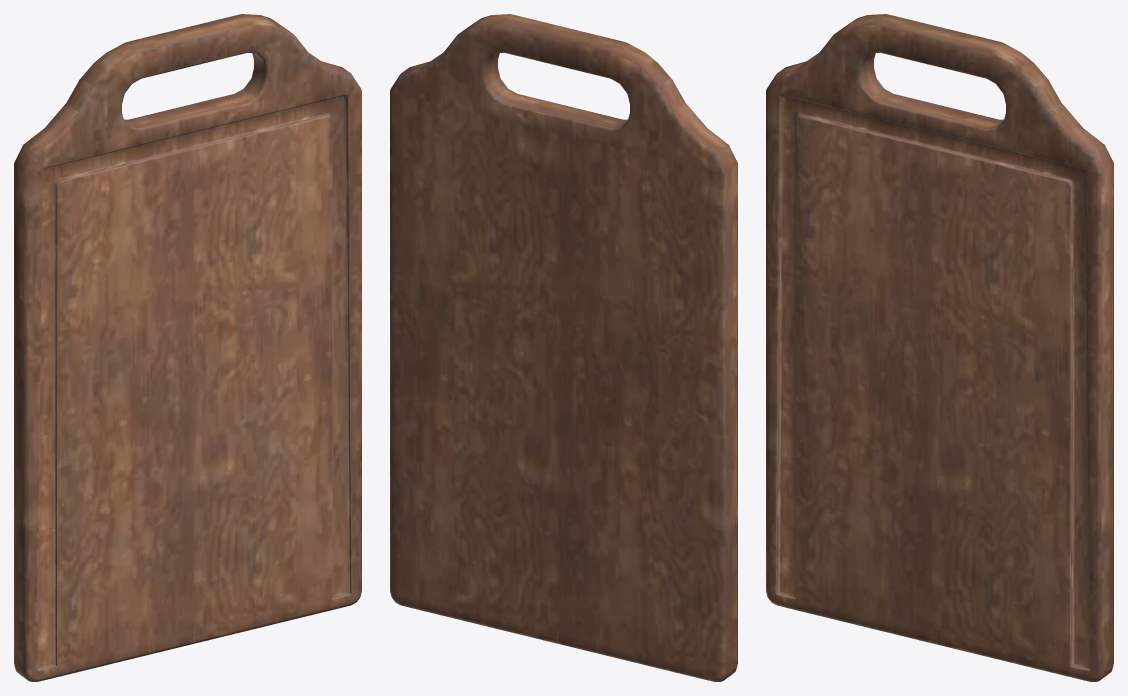
Rendered from coci_simple_cutting_board.glb.
3 views of the same model, side by side, from view 1: azimuth 30°, elevation 25°; view 2: azimuth 150°, elevation 25°; view 3: azimuth 330°, elevation 25° (orthographic).
Parts seen in each view (by area): view 1: Object_2; view 2: Object_2; view 3: Object_2.
Boxes of the visible parts, left/top/right/bottom form: Object_2: left=14, top=14, right=361, bottom=681; Object_2: left=390, top=14, right=737, bottom=681; Object_2: left=766, top=14, right=1113, bottom=681.
Bounding box in the file's own units: 0.2322 × 0.4 × 0.017.
1 material, 1 textured.
